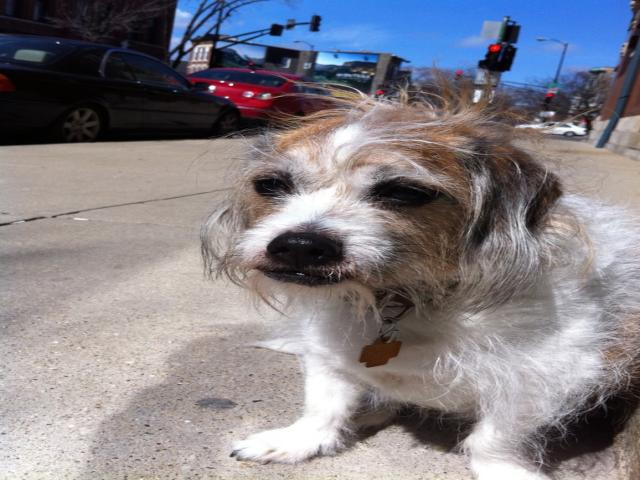Dog: (186, 70, 640, 480)
